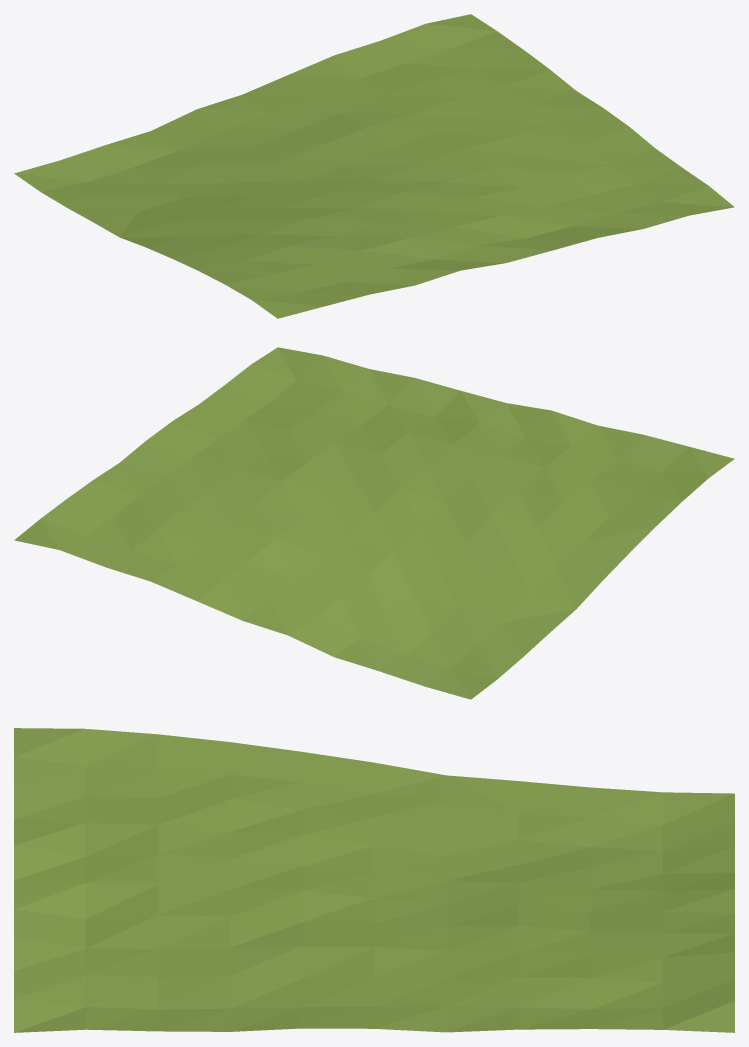
Rendered from terrain-plane_03-2.fbx.
3 renders of one model, top to bottom at view 1: azimuth 30°, elevation 25°; view 2: azimuth 150°, elevation 25°; view 3: azimuth 270°, elevation 25°, orthographic. The views are drawn at different scales.
Visible parts, largest first — view 1: terrain-plane_03-2; view 2: terrain-plane_03-2; view 3: terrain-plane_03-2.
Part boxes in pixels (x1,y1,x2,y2): terrain-plane_03-2: (14,14,734,318); terrain-plane_03-2: (14,347,734,699); terrain-plane_03-2: (14,728,734,1032).
Size of the model in its own units: 20.01 by 2.18 by 20.
